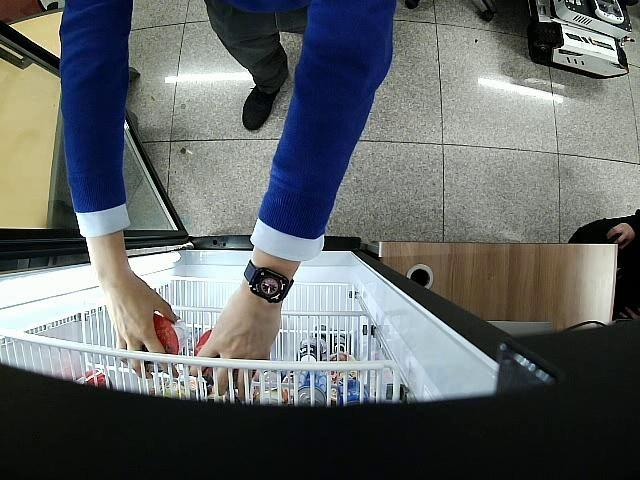02_shinRamen_S: (195, 327, 255, 385), (143, 313, 180, 372)
